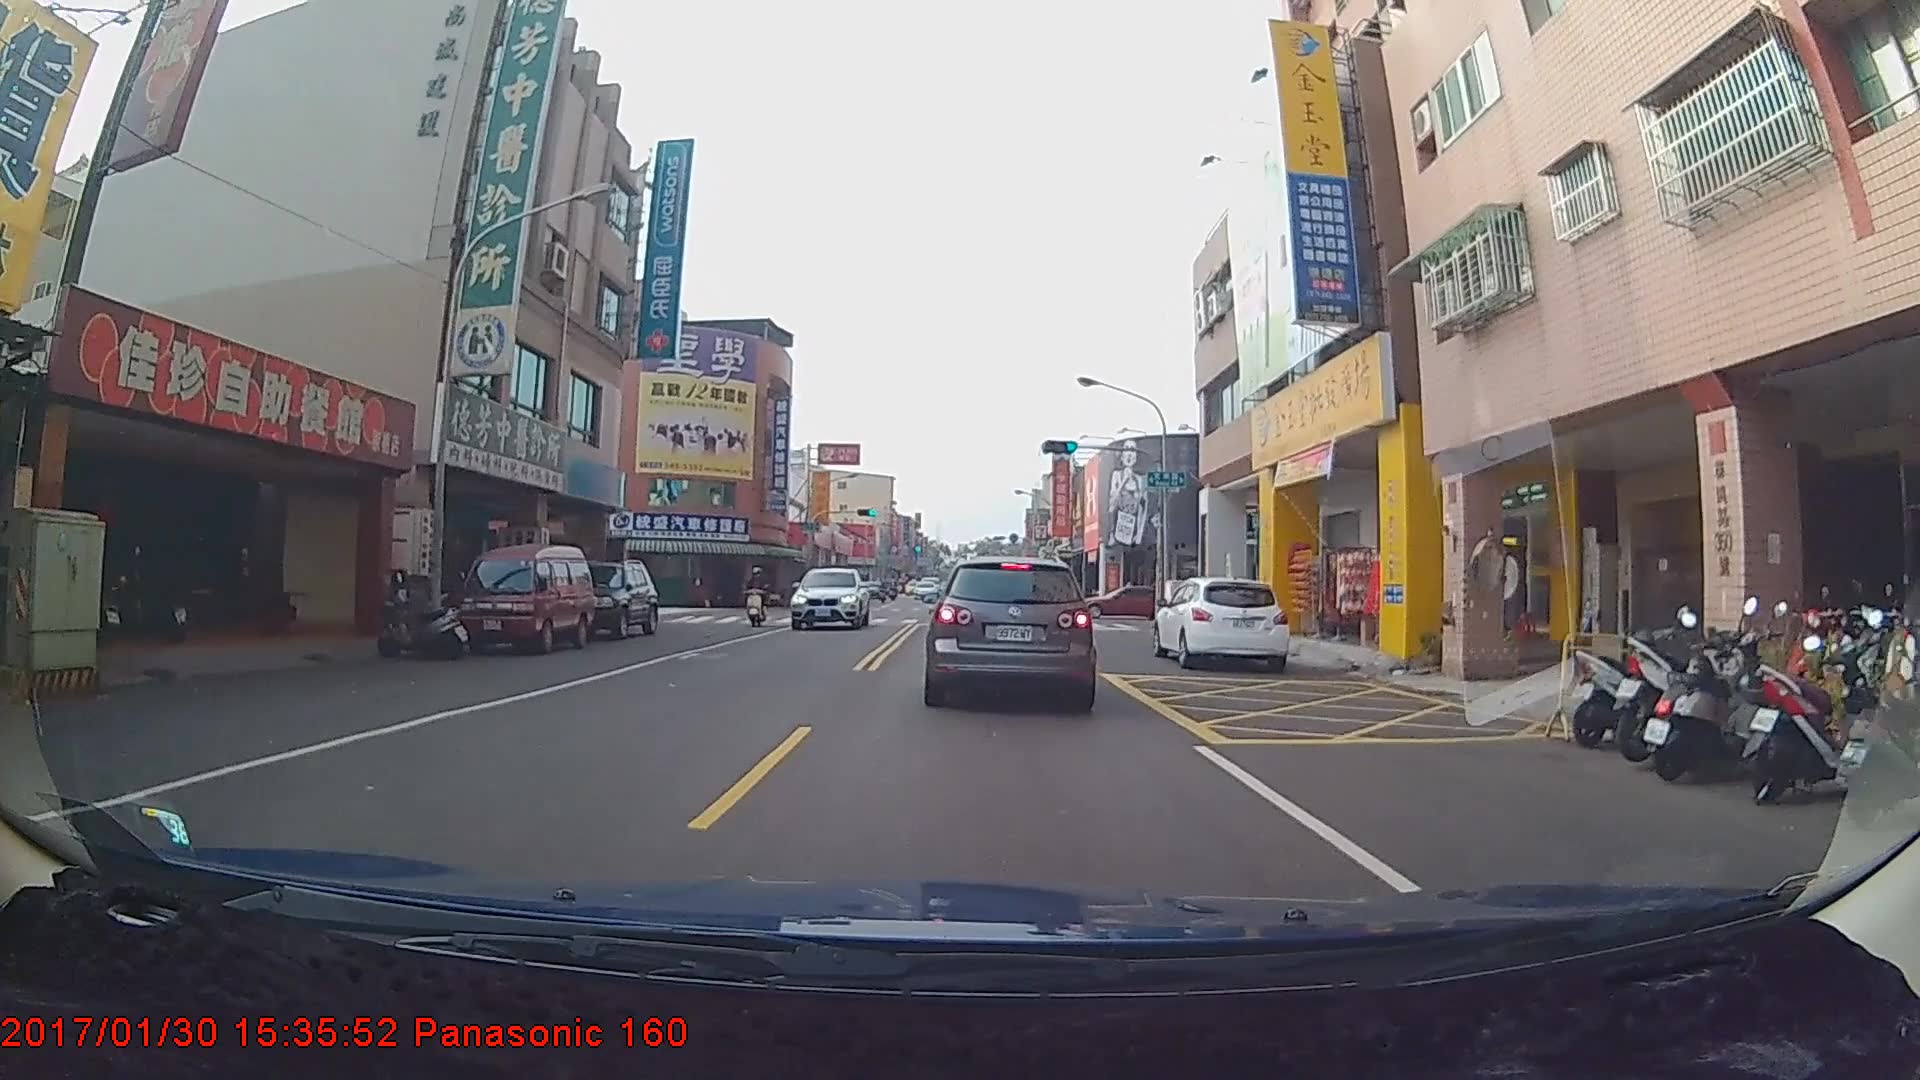rider: (738, 563, 777, 628)
vehicle: (923, 555, 1096, 705), (458, 541, 594, 651), (1154, 573, 1290, 671), (549, 556, 657, 639), (795, 559, 871, 628), (1072, 589, 1181, 621), (913, 577, 938, 597)
